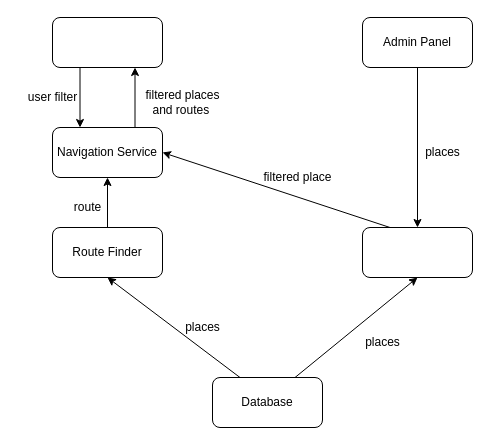
Some shapes in this 490 by 445 pixel diagram are drawn without their labels. The shapes that lost their labels are listed below. From the top down, each one's centre as x and y in pixels, then its label:
the point at 107,42: App UI
the point at 417,252: Geoinformation Manager
